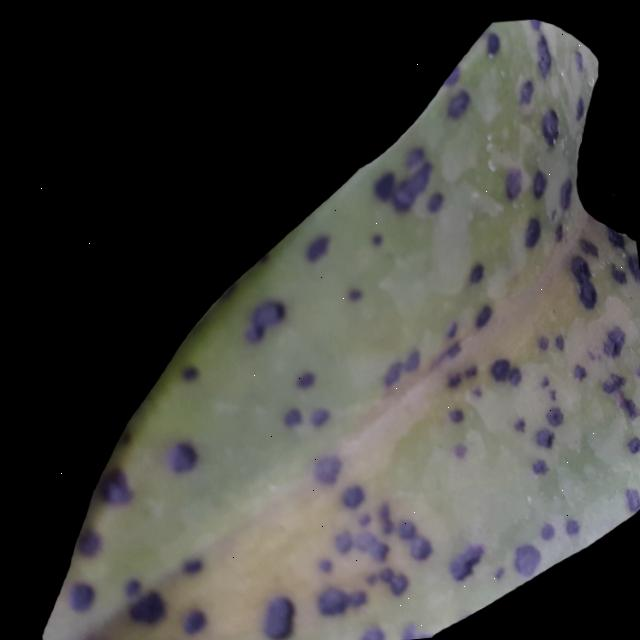mite: (440, 352, 526, 396), (256, 592, 298, 640), (566, 252, 600, 310), (123, 589, 167, 628), (161, 439, 200, 476), (308, 451, 345, 487), (486, 354, 524, 389), (508, 540, 542, 577), (442, 88, 474, 120), (172, 358, 205, 388), (336, 481, 367, 510), (519, 214, 544, 248), (531, 425, 556, 450), (470, 302, 494, 328), (487, 356, 511, 382), (464, 261, 486, 285), (292, 369, 317, 390), (177, 363, 200, 383), (445, 406, 465, 424)
sunburn: (1, 7, 640, 640)
